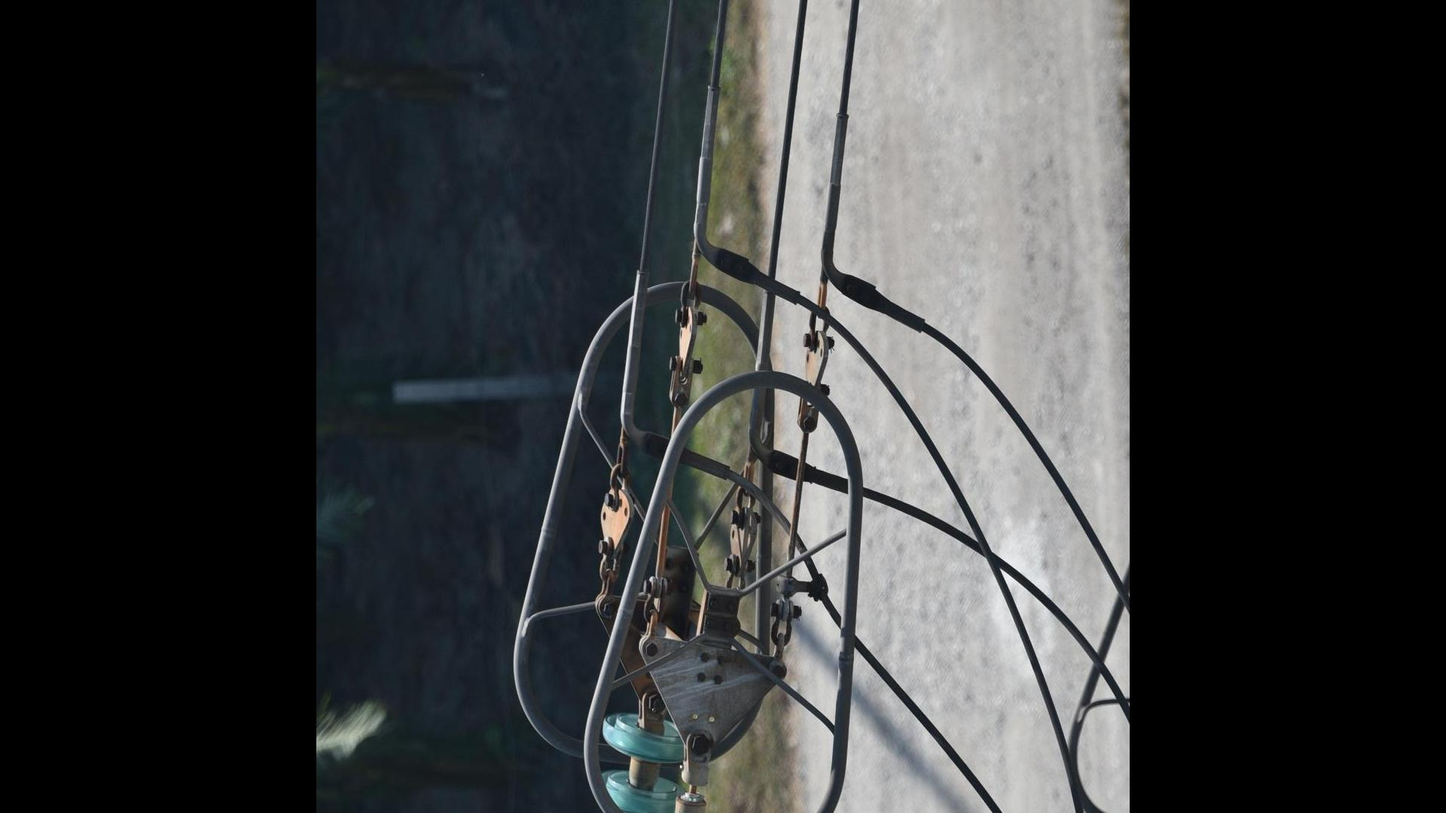insulator: (597, 704, 698, 813)
